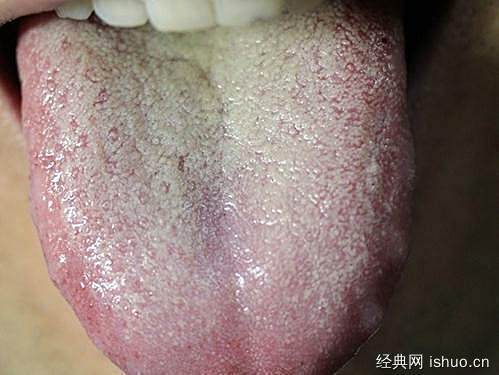chihenshe: (368, 228, 416, 329)
huangtaishe: (16, 33, 418, 375)
